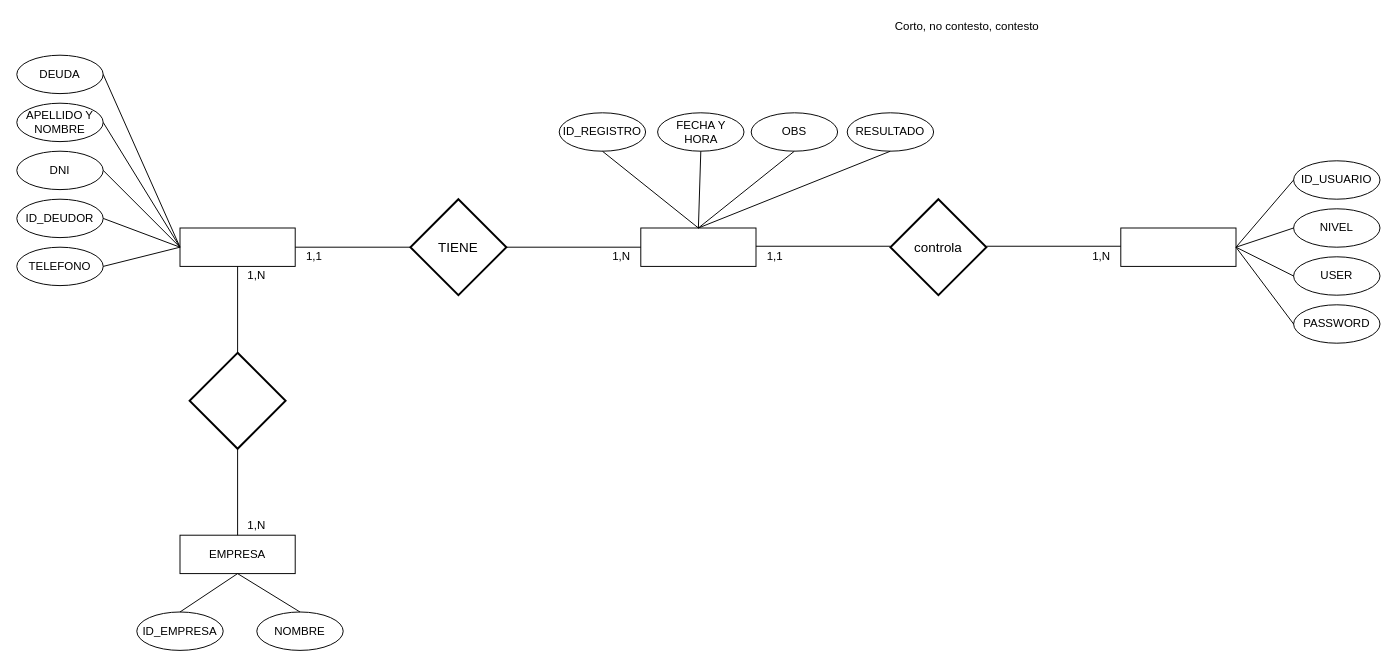
The diagram is 1397 pixels wide and 667 high, and some of its shapes have lost their labels. The box of each missing label's shape, as (x1, y1, x2, y2) in pixels:
DEBE: (188, 351, 286, 449)
DEUDOR: (179, 227, 295, 266)
REGISTRO: (640, 227, 756, 266)
USUARIO: (1120, 227, 1236, 266)
